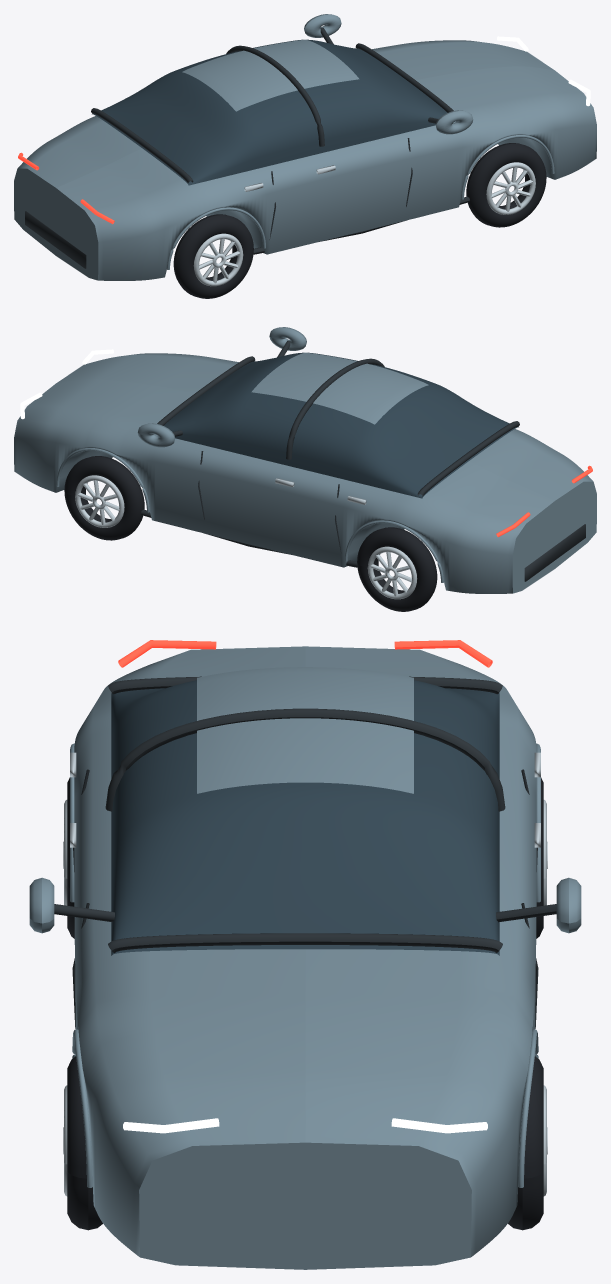
File: sedan.glb
3 renders of one model, top to bottom at view 1: azimuth 30°, elevation 25°; view 2: azimuth 150°, elevation 25°; view 3: azimuth 270°, elevation 25°, orthographic. The views are drawn at different scales.
Visible parts, largest first — view 1: body_paint_batch_0, smoked_glass_batch_0, carbon_trim_batch_0, rubber_batch_4, rubber_batch_2, brushed_alloy_batch_2, brushed_alloy_batch_4; view 2: body_paint_batch_0, smoked_glass_batch_0, carbon_trim_batch_0, rubber_batch_3, rubber_batch_1, brushed_alloy_batch_1, brushed_alloy_batch_3; view 3: body_paint_batch_0, smoked_glass_batch_0, carbon_trim_batch_0, rubber_batch_1, rubber_batch_2, rear_led_batch_0, front_led_batch_0.
Boxes of the visible parts, x1,y1,x2,y2 form: body_paint_batch_0: (14,14,596,280); smoked_glass_batch_0: (92,39,447,185); carbon_trim_batch_0: (25,27,469,268); rubber_batch_4: (173,214,253,298); rubber_batch_2: (466,143,546,227); brushed_alloy_batch_2: (486,162,535,214); brushed_alloy_batch_4: (193,233,243,286); body_paint_batch_0: (14,327,596,593); smoked_glass_batch_0: (163,352,518,498); carbon_trim_batch_0: (141,340,585,581); rubber_batch_3: (357,527,437,611); rubber_batch_1: (64,456,144,540); brushed_alloy_batch_1: (75,475,124,527); brushed_alloy_batch_3: (367,546,417,599); body_paint_batch_0: (29,646,581,1269); smoked_glass_batch_0: (111,680,499,955); carbon_trim_batch_0: (54,676,556,1028); rubber_batch_1: (508,1056,543,1230); rubber_batch_2: (67,1056,102,1230); rear_led_batch_0: (118,640,492,667); front_led_batch_0: (123,1118,487,1133).
Size of the model in its own units: 4.65 by 1.5 by 2.22.
